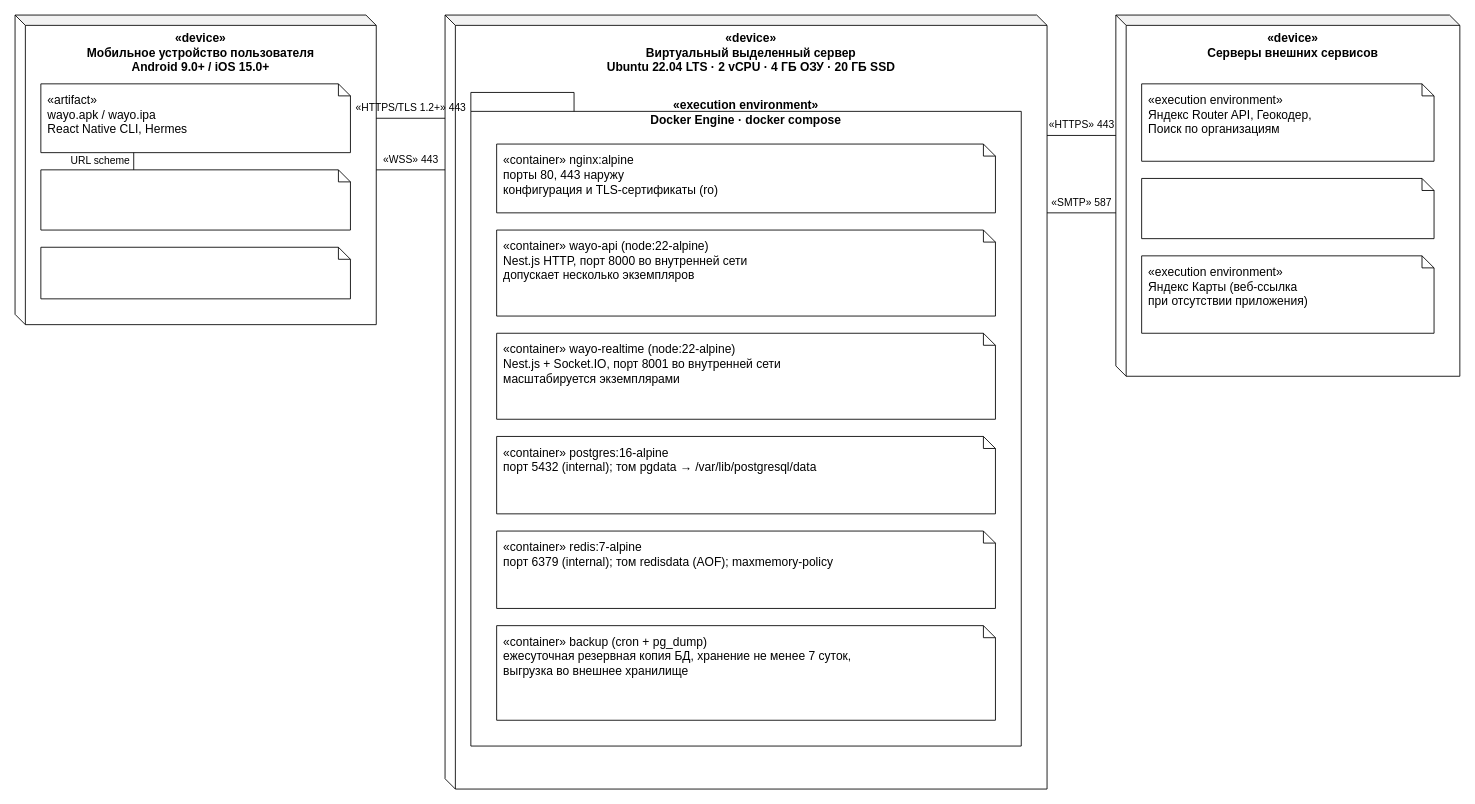
Image size: 1475x804. Some labels were removed from this diagram. The shapes that lost their labels are listed below. From the top down, each one's centre as x and y in pixels, then its label:
At (195,199): "«artifact» Яндекс Навигатор / 2ГИС (внешнее приложение)".
At (1287,208): "«execution environment» SMTP-сервер провайдера".
At (195,272): "«execution environment» Безопасное хранилище ОС".
